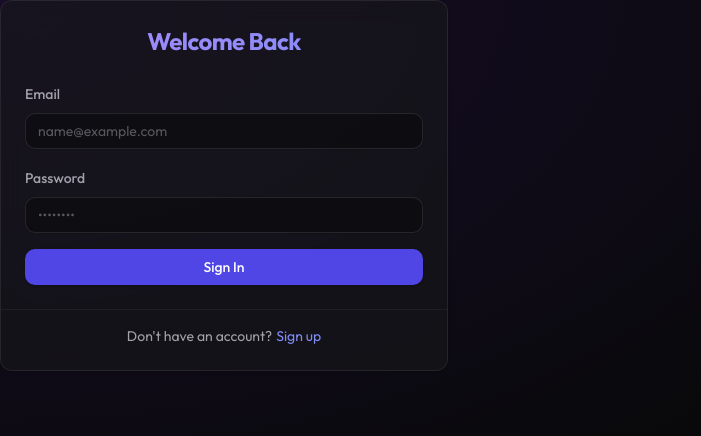
Test case: LoginForm Rendering & Validation › should display inline validation error messages for invalid inputs on submit
The image size is (701, 436).
Click the button "Sign In" at (224, 267), box [25,249,423,285]
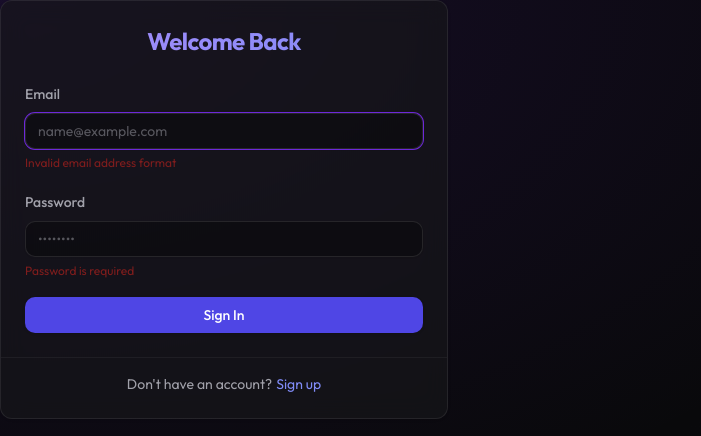
Expected: the text "Invalid email address format" is shown, [25,155,176,170]
